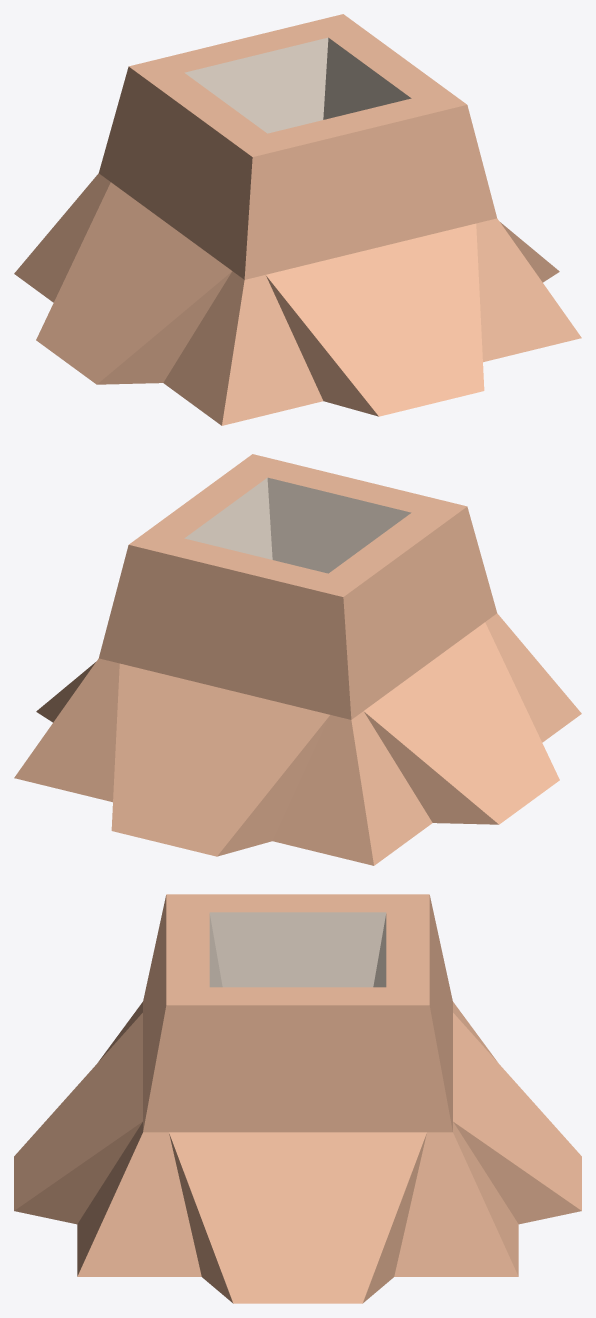
File: stump_squareDetailed.glb
3 views of the same model, one above another, from view 1: azimuth 30°, elevation 25°; view 2: azimuth 150°, elevation 25°; view 3: azimuth 270°, elevation 25° (orthographic). The views are drawn at different scales.
Visible parts, largest first — view 1: stump_squareDetailed; view 2: stump_squareDetailed; view 3: stump_squareDetailed.
Part boxes in pixels (bbox=[...]): stump_squareDetailed: bbox=[14, 14, 581, 425]; stump_squareDetailed: bbox=[14, 454, 581, 865]; stump_squareDetailed: bbox=[14, 894, 581, 1303].
Bounding box in the file's own units: 0.44 × 0.2 × 0.44.
1 material, 1 textured.
